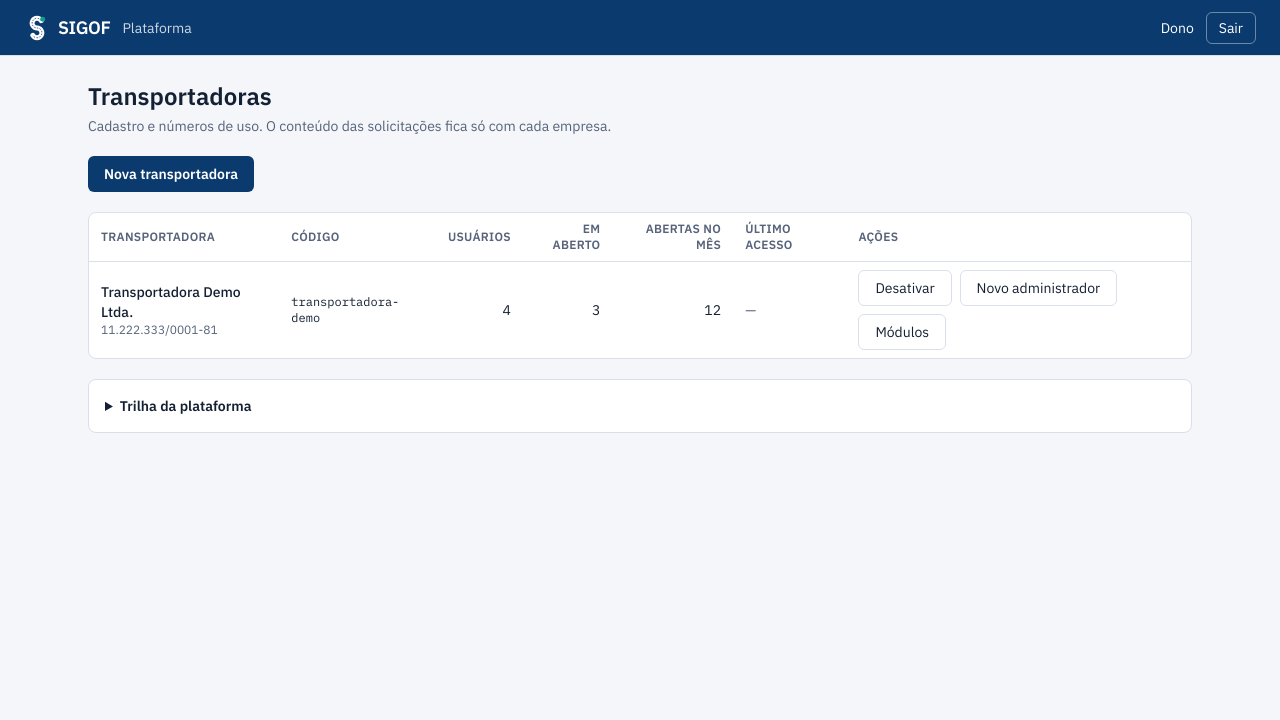
painel da plataforma › cria mais um administrador na empresa e mostra a senha provisória
Step 1. Click the button "Novo administrador" → (1038, 288), box [960,270,1117,306]
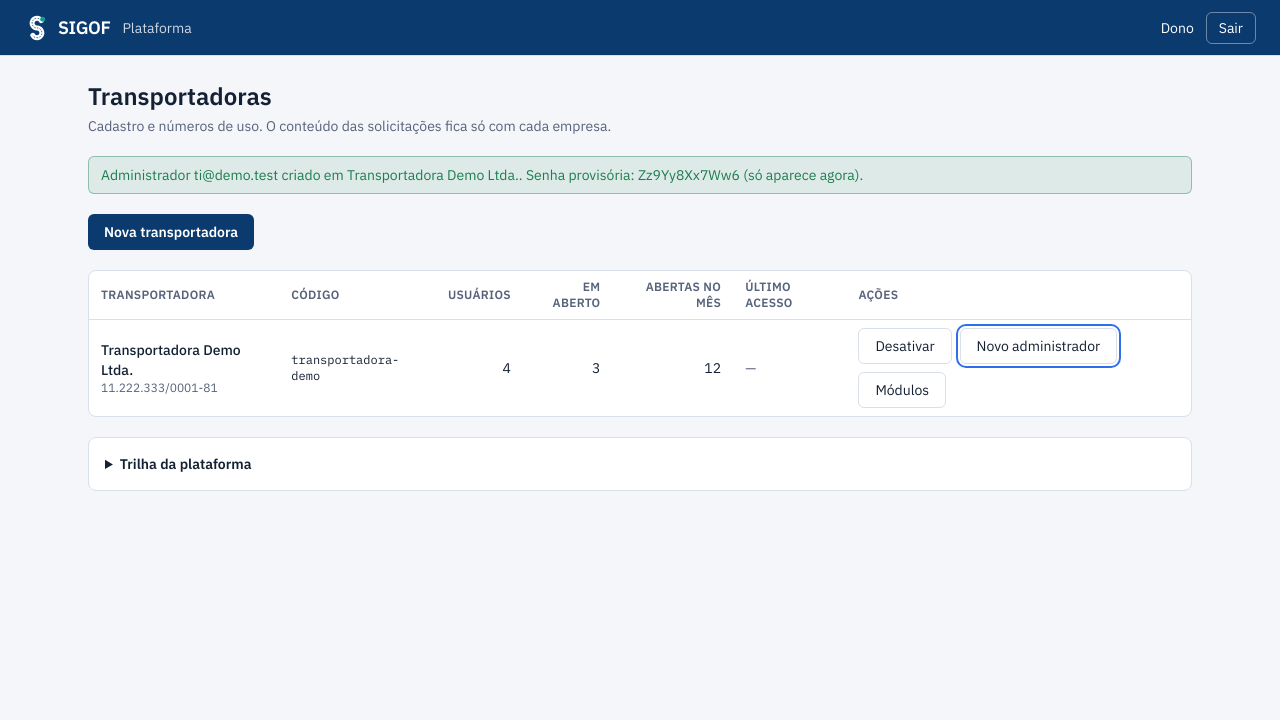
Now the text "Zz9Yy8Xx7Ww6" is shown, box [101,166,863,184]
